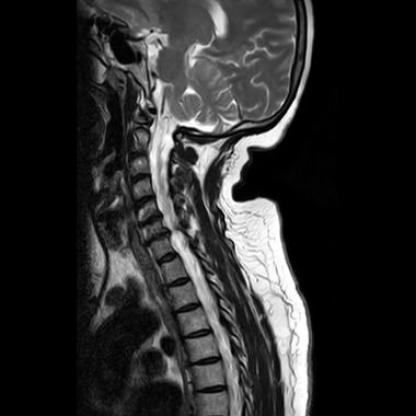Disc Bulgerotation: (143, 232, 170, 246), (136, 216, 163, 228)
Osteophytesrotation: (143, 232, 170, 246), (136, 215, 164, 227)
